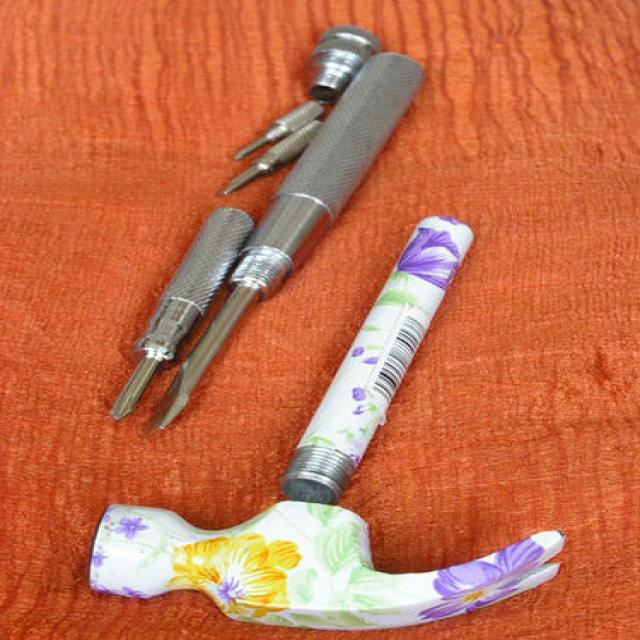hammer: (75, 216, 559, 634)
screwdriver: (146, 41, 440, 438), (101, 196, 265, 429), (218, 114, 335, 206), (223, 94, 334, 168)
